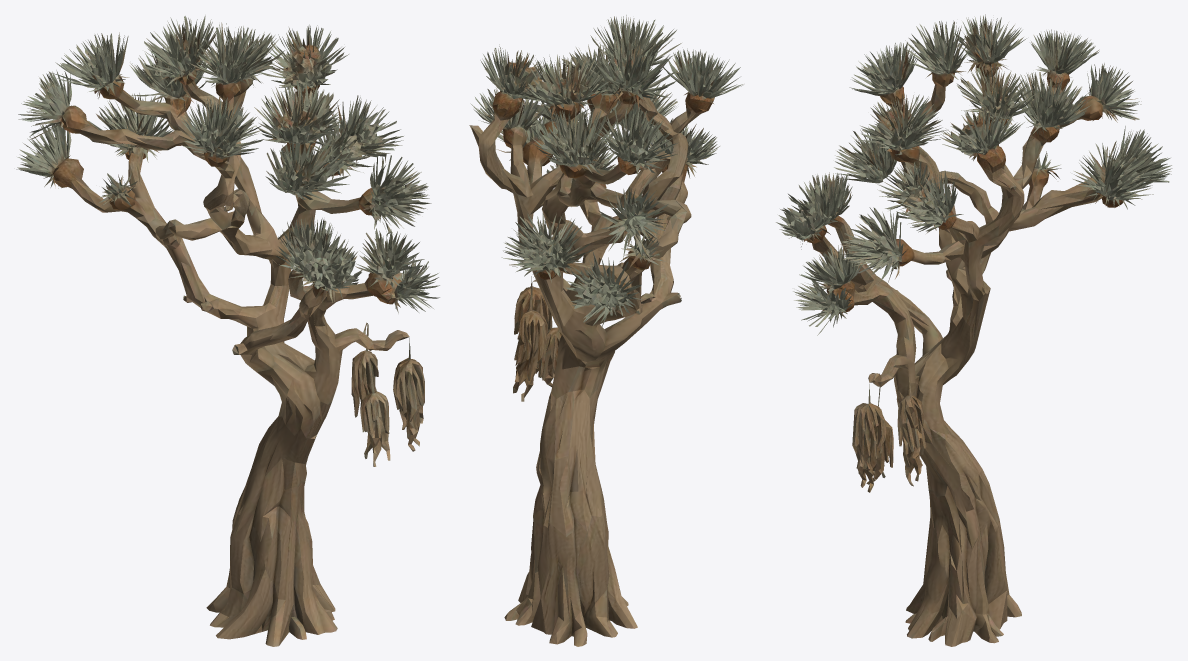
File: joshua-tree-pbr.glb
3 renders of one model, left to right at view 1: azimuth 30°, elevation 25°; view 2: azimuth 150°, elevation 25°; view 3: azimuth 270°, elevation 25°, orthographic. The views are drawn at different scales.
Size of the model in its own units: 0.9498 by 1.91 by 1.2.
1 material, 1 textured.
